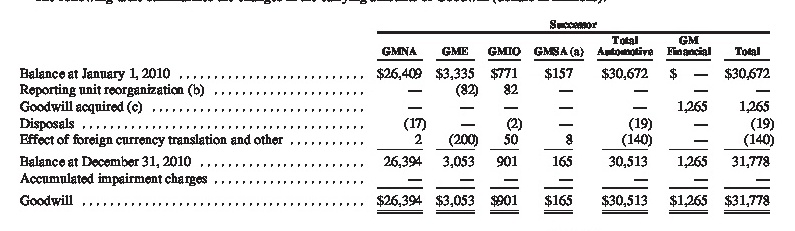table: (0, 0, 795, 231)
